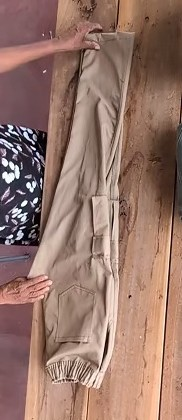TROUSER: (43, 37, 138, 386)
